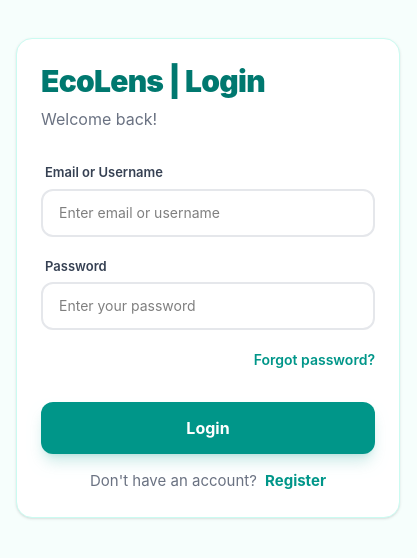
Login page › renders validation error when submitting empty form
Click the button "Login": (208,428) left=41, top=402, right=375, bottom=454
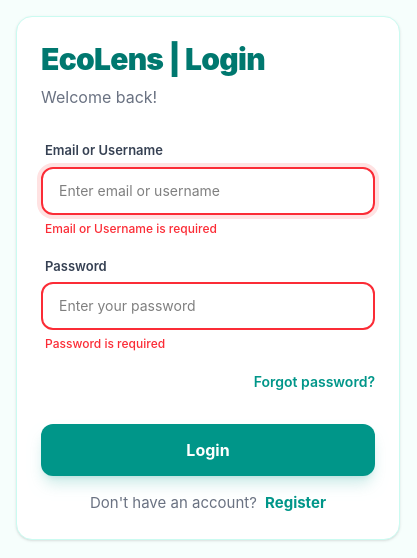
Expected: the text "Email or Username is required" is shown, left=45, top=221, right=217, bottom=236
Expected: the text "Password is required" is shown, left=45, top=336, right=165, bottom=351
